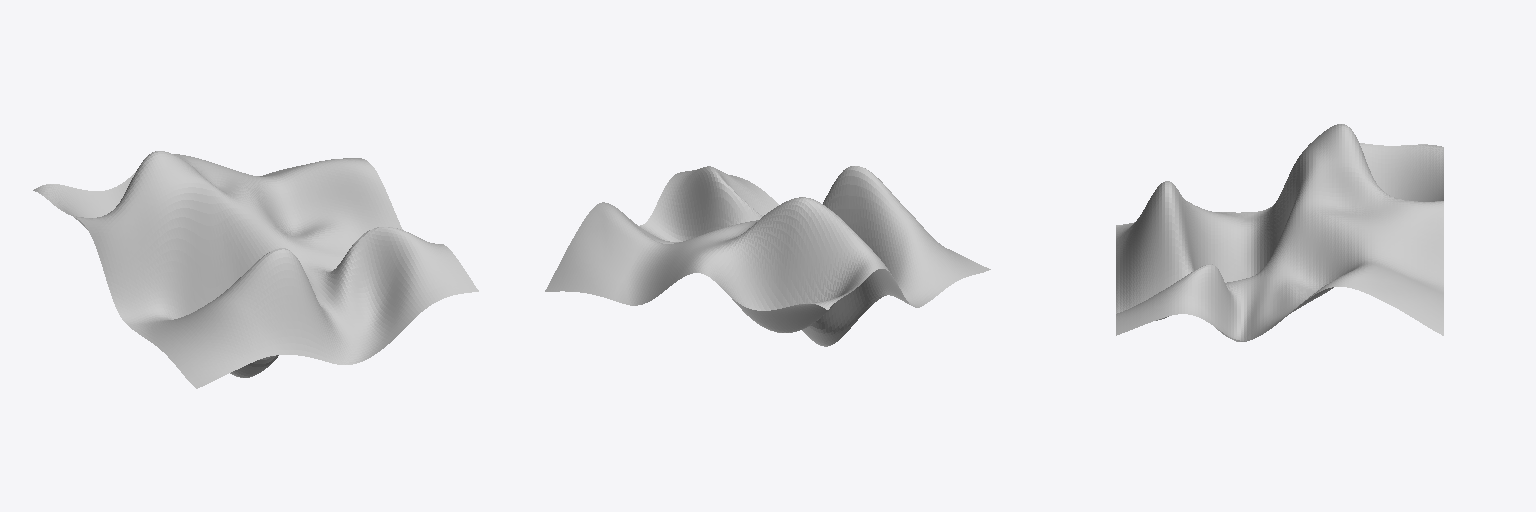
Rendered from Terrain.obj.
The picture shows the model from 3 angles: view 1: azimuth 30°, elevation 25°; view 2: azimuth 150°, elevation 25°; view 3: azimuth 270°, elevation 25°; orthographic projection.
Visible parts, largest first — view 1: pPlane1; view 2: pPlane1; view 3: pPlane1.
Boxes of the visible parts, x1=… form: pPlane1: x1=33, y1=151, x2=478, y2=388; pPlane1: x1=545, y1=166, x2=990, y2=346; pPlane1: x1=1116, y1=124, x2=1443, y2=341.
Bounding box in the file's own units: 10 × 6.56 × 10.